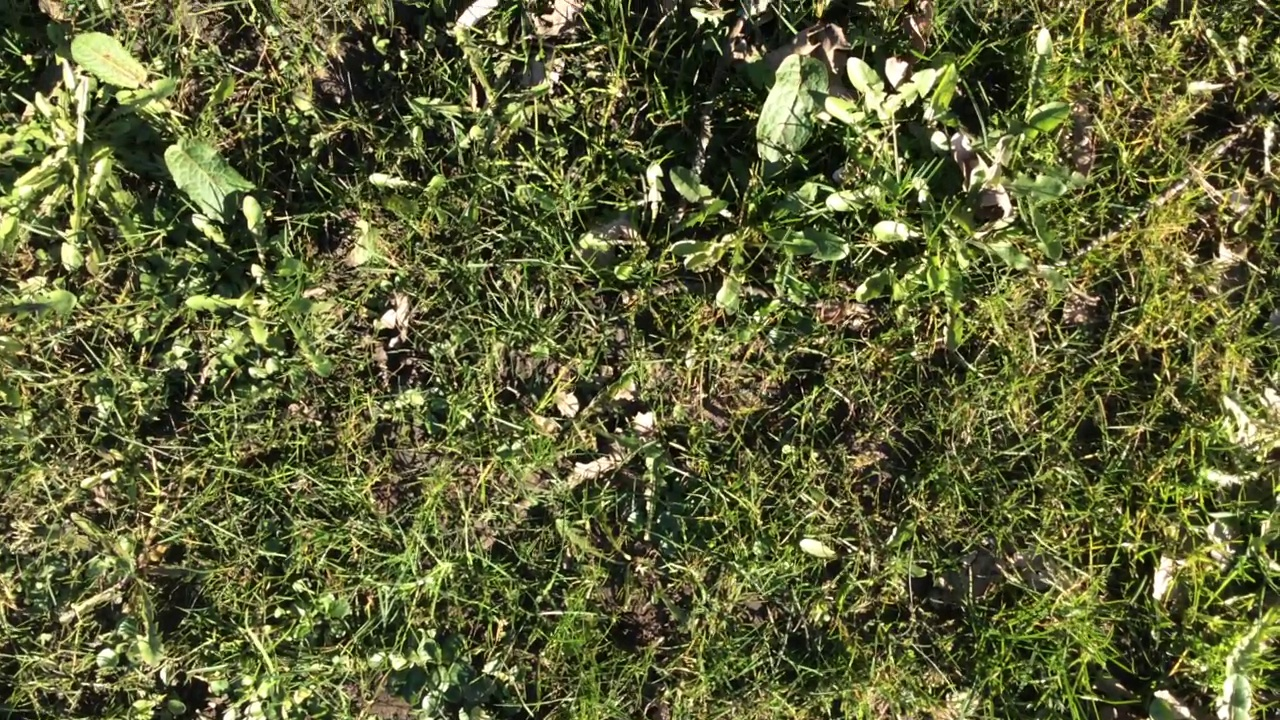rumex: (758, 54, 829, 168), (164, 140, 256, 220), (74, 35, 158, 95), (669, 167, 706, 204)
